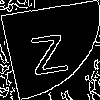Z: (25, 25, 70, 76)
